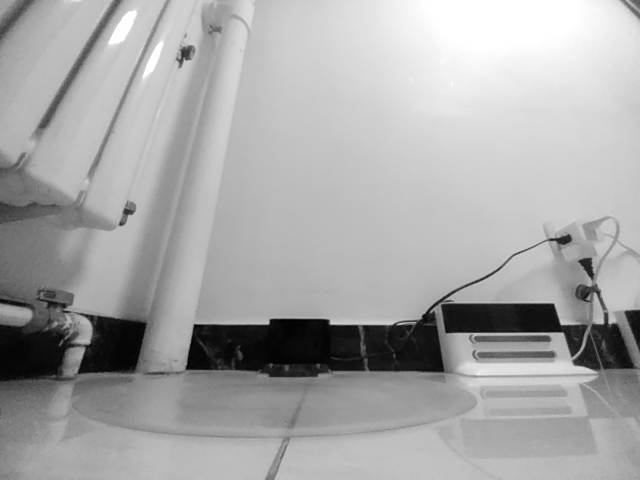Ruby: (433, 300, 601, 377)
TanosV: (266, 317, 335, 378)
